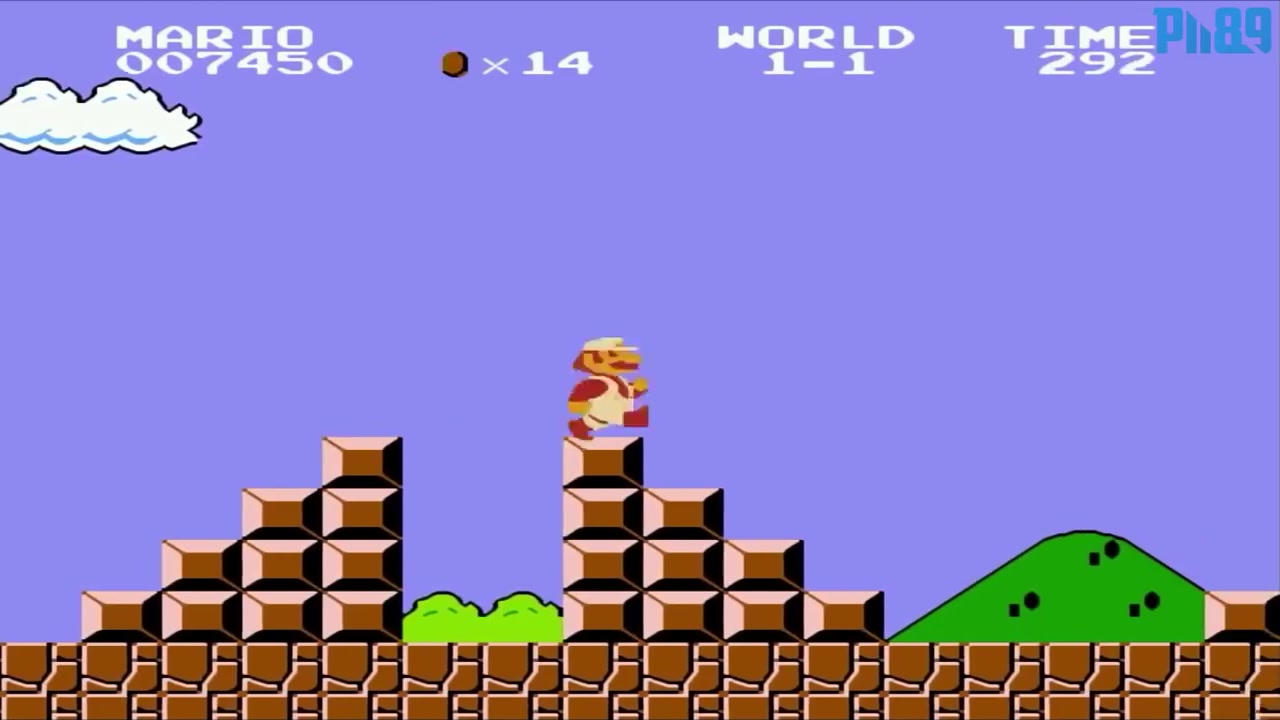mario: (556, 321, 650, 445)
